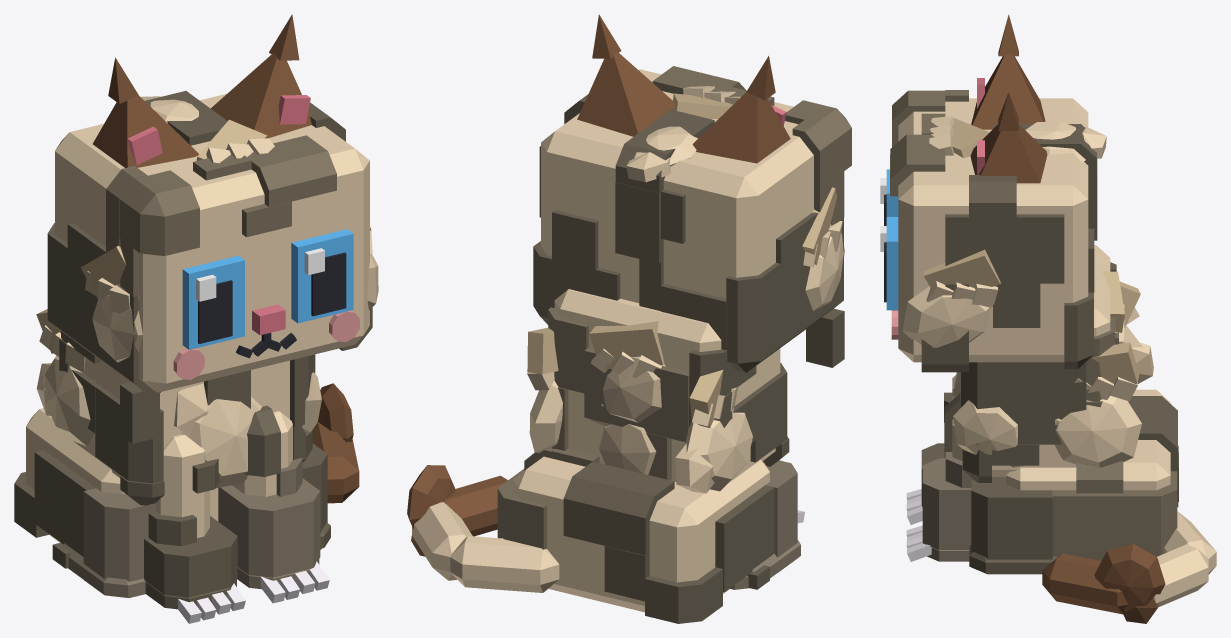
The model's file is CleanACat_Cat_Toffee_Dirty_Sit.fbx.
3 views of the same model, side by side, from view 1: azimuth 30°, elevation 25°; view 2: azimuth 150°, elevation 25°; view 3: azimuth 270°, elevation 25° (orthographic). The views are drawn at different scales.
Parts seen in each view (by area): view 1: CleanACat_Cat_Toffee_Dirty_Sit_Head, CleanACat_Cat_Toffee_Dirty_Sit_Mud17, CleanACat_Cat_Toffee_Dirty_Sit_Mud01, CleanACat_Cat_Toffee_Dirty_Sit_Mud06, CleanACat_Cat_Toffee_Dirty_Sit_Body, CleanACat_Cat_Toffee_Dirty_Sit_Mud18, CleanACat_Cat_Toffee_Dirty_Sit_Mud16, CleanACat_Cat_Toffee_Dirty_Sit_Mud03, CleanACat_Cat_Toffee_Dirty_Sit_EarL, CleanACat_Cat_Toffee_Dirty_Sit_Mud14, CleanACat_Cat_Toffee_Dirty_Sit_Mud10, CleanACat_Cat_Toffee_Dirty_Sit_EarR (+23 smaller); view 2: CleanACat_Cat_Toffee_Dirty_Sit_Head, CleanACat_Cat_Toffee_Dirty_Sit_Body, CleanACat_Cat_Toffee_Dirty_Sit_Mud01, CleanACat_Cat_Toffee_Dirty_Sit_Tail, CleanACat_Cat_Toffee_Dirty_Sit_Mud13, CleanACat_Cat_Toffee_Dirty_Sit_Mud04, CleanACat_Cat_Toffee_Dirty_Sit_Mud14, CleanACat_Cat_Toffee_Dirty_Sit_Mud09, CleanACat_Cat_Toffee_Dirty_Sit_Mud05, CleanACat_Cat_Toffee_Dirty_Sit_EarL, CleanACat_Cat_Toffee_Dirty_Sit_EarR, CleanACat_Cat_Toffee_Dirty_Sit_Fluff06 (+17 smaller); view 3: CleanACat_Cat_Toffee_Dirty_Sit_Head, CleanACat_Cat_Toffee_Dirty_Sit_Mud02, CleanACat_Cat_Toffee_Dirty_Sit_Mud12, CleanACat_Cat_Toffee_Dirty_Sit_Mud08, CleanACat_Cat_Toffee_Dirty_Sit_Mud15, CleanACat_Cat_Toffee_Dirty_Sit_Tail, CleanACat_Cat_Toffee_Dirty_Sit_Body, CleanACat_Cat_Toffee_Dirty_Sit_Mud17, CleanACat_Cat_Toffee_Dirty_Sit_Fluff05, CleanACat_Cat_Toffee_Dirty_Sit_EarL, CleanACat_Cat_Toffee_Dirty_Sit_EarR, CleanACat_Cat_Toffee_Dirty_Sit_Fluff01 (+19 smaller).
Boxes of the visible parts, x1,y1,x2,y2 form: CleanACat_Cat_Toffee_Dirty_Sit_Head: (55, 93, 369, 392); CleanACat_Cat_Toffee_Dirty_Sit_Mud17: (218, 458, 320, 589); CleanACat_Cat_Toffee_Dirty_Sit_Mud01: (47, 223, 160, 443); CleanACat_Cat_Toffee_Dirty_Sit_Mud06: (106, 166, 199, 296); CleanACat_Cat_Toffee_Dirty_Sit_Body: (26, 357, 289, 542); CleanACat_Cat_Toffee_Dirty_Sit_Mud18: (144, 511, 237, 609); CleanACat_Cat_Toffee_Dirty_Sit_Mud16: (62, 488, 155, 597); CleanACat_Cat_Toffee_Dirty_Sit_Mud03: (193, 135, 336, 237); CleanACat_Cat_Toffee_Dirty_Sit_EarL: (211, 14, 311, 138); CleanACat_Cat_Toffee_Dirty_Sit_Mud14: (14, 450, 95, 568); CleanACat_Cat_Toffee_Dirty_Sit_Mud10: (71, 369, 164, 505); CleanACat_Cat_Toffee_Dirty_Sit_EarR: (93, 57, 198, 167); CleanACat_Cat_Toffee_Dirty_Sit_Head: (541, 69, 813, 302); CleanACat_Cat_Toffee_Dirty_Sit_Body: (513, 289, 780, 612); CleanACat_Cat_Toffee_Dirty_Sit_Mud01: (660, 212, 844, 372); CleanACat_Cat_Toffee_Dirty_Sit_Tail: (412, 475, 559, 592); CleanACat_Cat_Toffee_Dirty_Sit_Mud13: (563, 461, 674, 601); CleanACat_Cat_Toffee_Dirty_Sit_Mud04: (615, 109, 714, 310); CleanACat_Cat_Toffee_Dirty_Sit_Mud14: (645, 485, 774, 623); CleanACat_Cat_Toffee_Dirty_Sit_Mud09: (548, 307, 689, 480); CleanACat_Cat_Toffee_Dirty_Sit_Mud05: (533, 210, 620, 324); CleanACat_Cat_Toffee_Dirty_Sit_EarL: (577, 14, 674, 136); CleanACat_Cat_Toffee_Dirty_Sit_EarR: (692, 56, 790, 163); CleanACat_Cat_Toffee_Dirty_Sit_Fluff06: (675, 408, 752, 493); CleanACat_Cat_Toffee_Dirty_Sit_Head: (891, 98, 1088, 362); CleanACat_Cat_Toffee_Dirty_Sit_Mud02: (921, 175, 1064, 372); CleanACat_Cat_Toffee_Dirty_Sit_Mud12: (1052, 461, 1177, 560); CleanACat_Cat_Toffee_Dirty_Sit_Mud08: (961, 362, 1086, 482); CleanACat_Cat_Toffee_Dirty_Sit_Mud15: (969, 477, 1058, 574); CleanACat_Cat_Toffee_Dirty_Sit_Tail: (1042, 511, 1216, 614); CleanACat_Cat_Toffee_Dirty_Sit_Body: (992, 245, 1170, 490); CleanACat_Cat_Toffee_Dirty_Sit_Mud17: (922, 452, 973, 561); CleanACat_Cat_Toffee_Dirty_Sit_Fluff05: (1055, 396, 1141, 467); CleanACat_Cat_Toffee_Dirty_Sit_EarL: (970, 92, 1047, 183); CleanACat_Cat_Toffee_Dirty_Sit_EarR: (971, 14, 1045, 129); CleanACat_Cat_Toffee_Dirty_Sit_Fluff01: (902, 286, 991, 347).
Bounding box in the file's own units: 1.3 × 1.97 × 1.24.
1 material, 1 textured.
